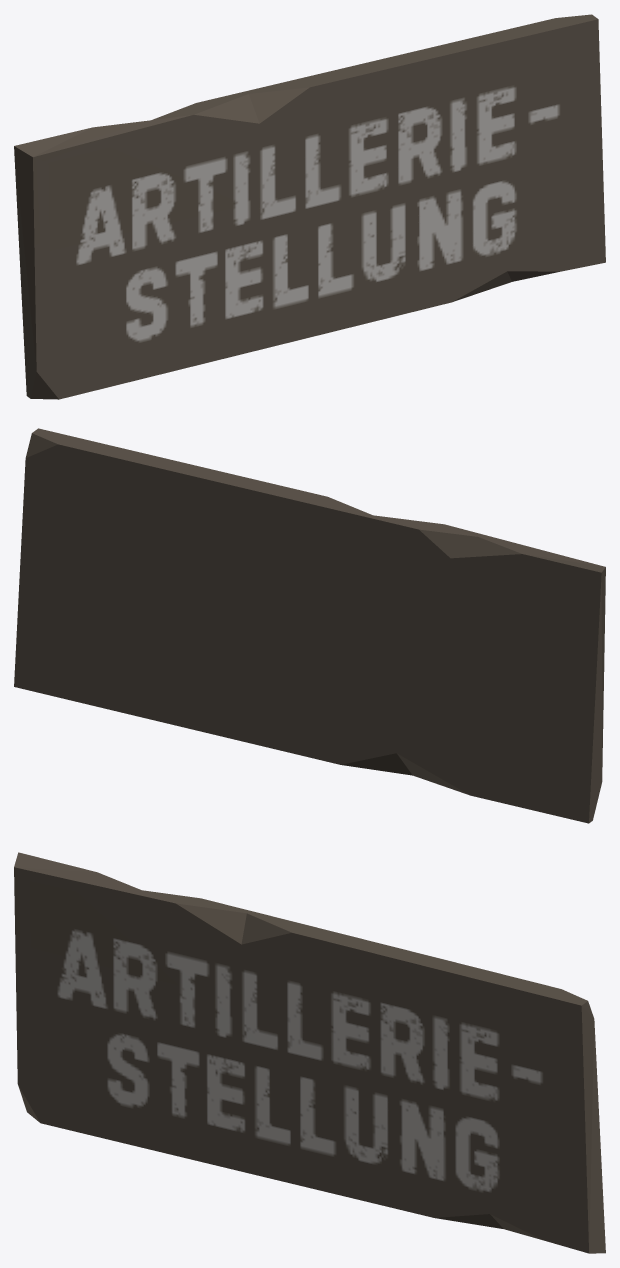
Rendered from Prop_Sign_Schild_03.fbx.
3 views of the same model, one above another, from view 1: azimuth 30°, elevation 25°; view 2: azimuth 150°, elevation 25°; view 3: azimuth 330°, elevation 25° (orthographic).
Parts seen in each view (by area): view 1: Prop_Sign_Schild_03_LOD0; view 2: Prop_Sign_Schild_03_LOD0; view 3: Prop_Sign_Schild_03_LOD0.
Boxes of the visible parts, left/top/right/bottom form: Prop_Sign_Schild_03_LOD0: left=14, top=14, right=605, bottom=399; Prop_Sign_Schild_03_LOD0: left=14, top=428, right=605, bottom=823; Prop_Sign_Schild_03_LOD0: left=14, top=852, right=605, bottom=1253.
Size of what is drawn, in the model's own units: 55.76 by 23.35 by 1.92.
